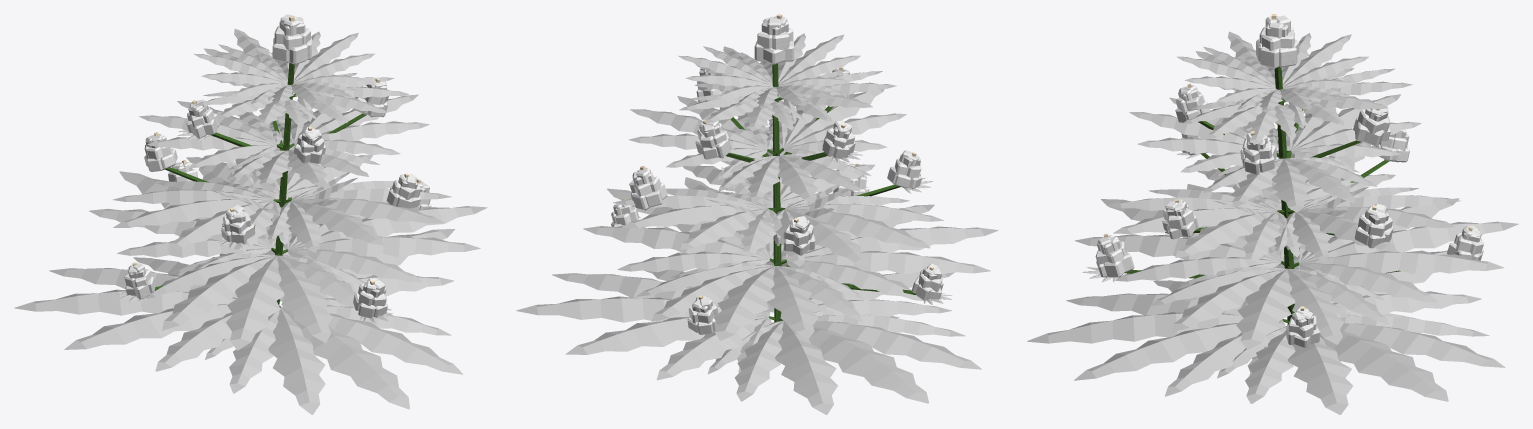
File: plant_2_3_2.obj
3 views of the same model, side by side, from view 1: azimuth 30°, elevation 25°; view 2: azimuth 150°, elevation 25°; view 3: azimuth 270°, elevation 25° (orthographic). The views are drawn at different scales.
Visible parts, largest first — view 1: model; view 2: model; view 3: model.
Boxes of the visible parts, x1,y1,x2,y2 form: model: (14, 14, 487, 414); model: (516, 14, 998, 414); model: (1027, 14, 1518, 414).
Size of the model in its own units: 1.07 by 0.8282 by 1.06.
